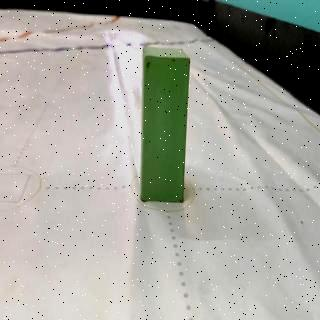greenbox: (140, 44, 191, 203)
